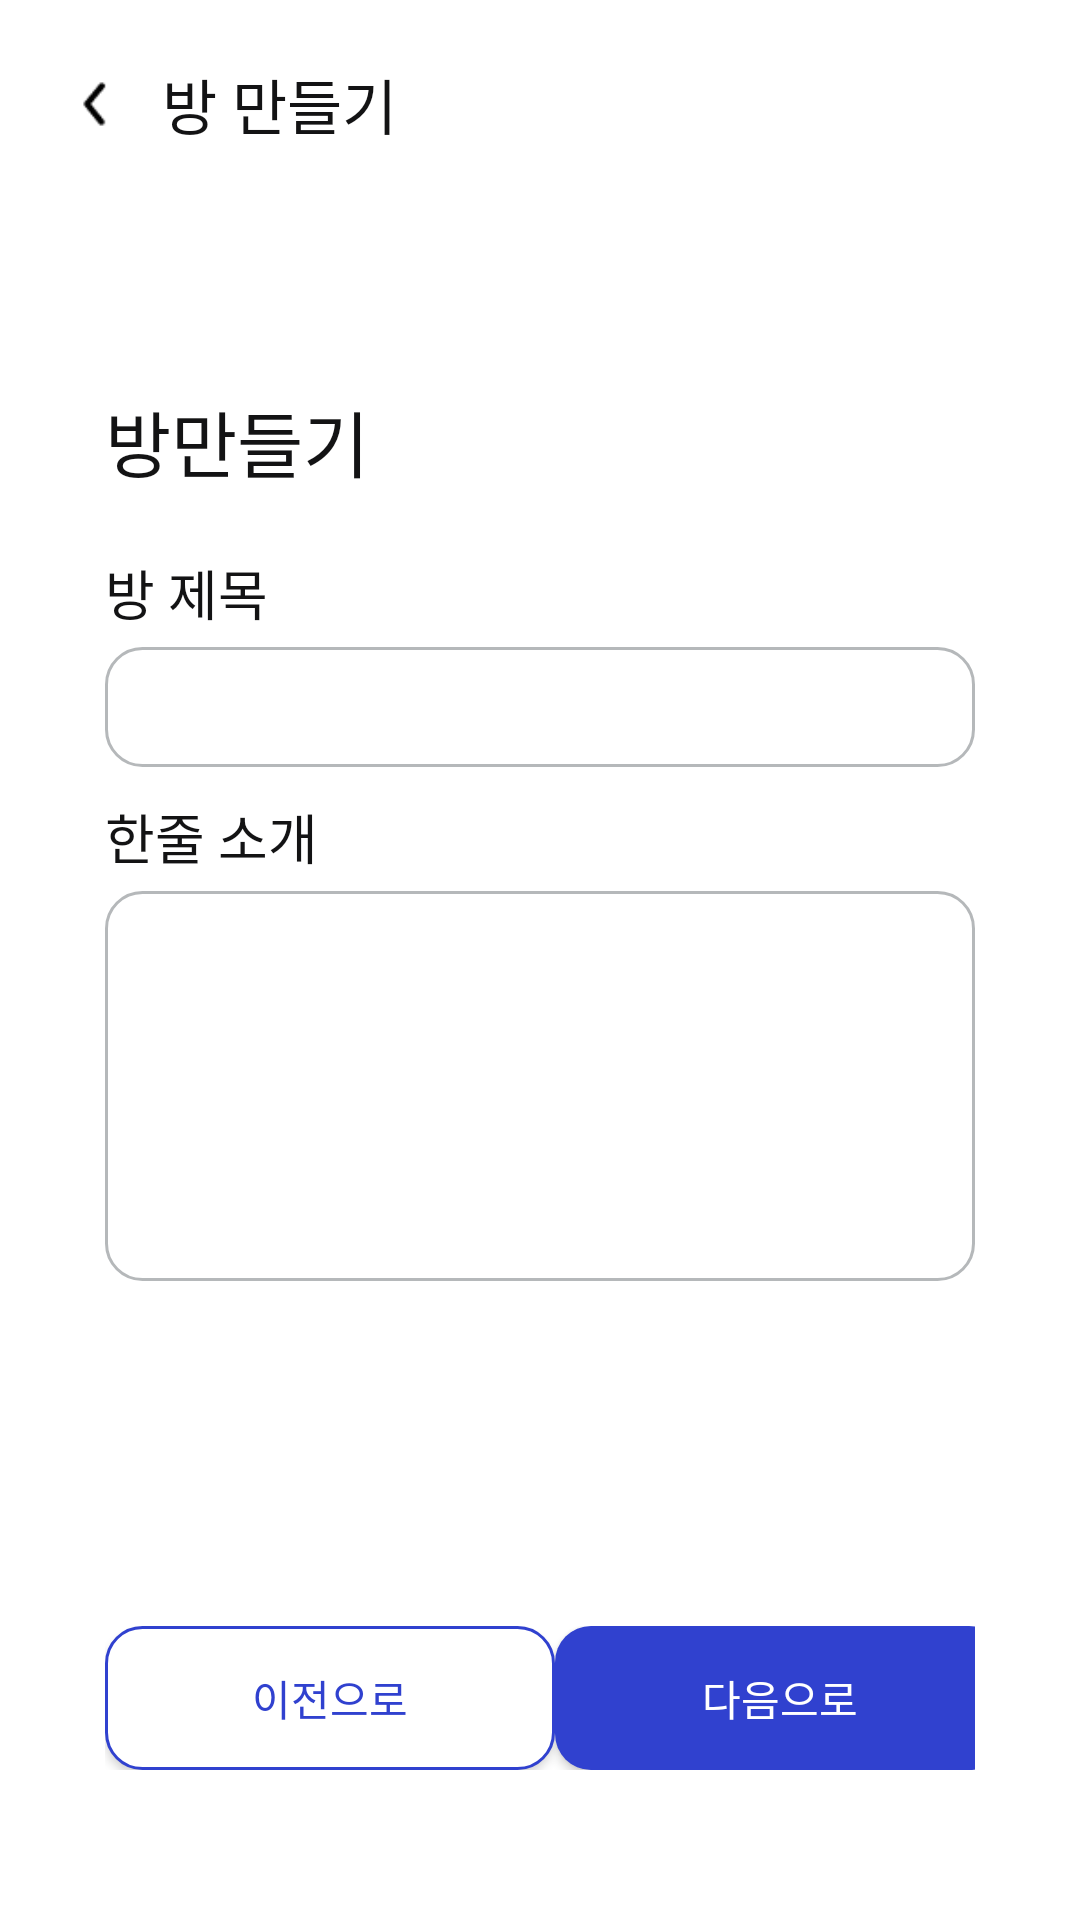

Icons on this 1080 x 1920 Android screen, each with the point to tap as (x=x, y=y):
arrow: (x=94, y=104)
